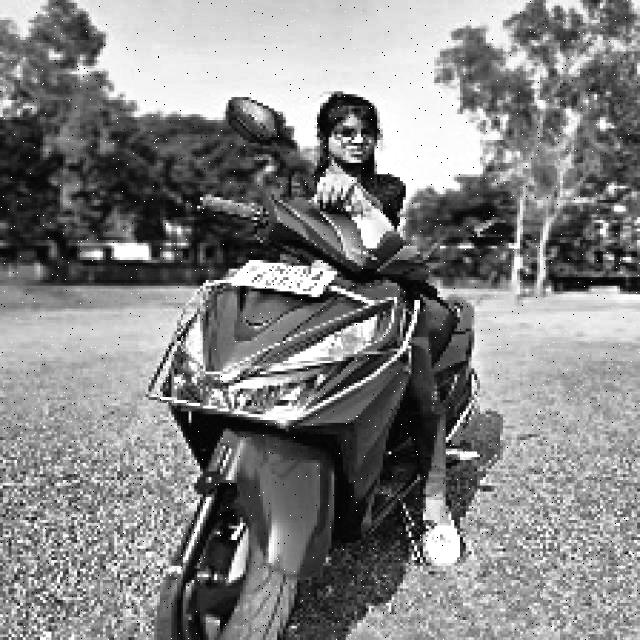Bike: (156, 173, 489, 640)
